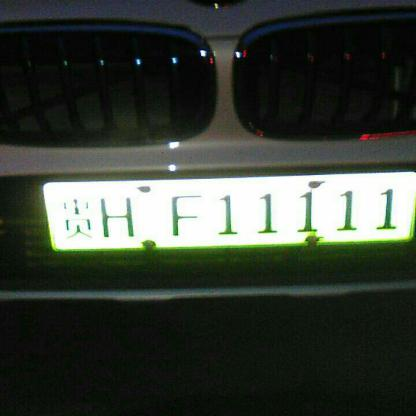lp: (52, 172, 406, 251)
